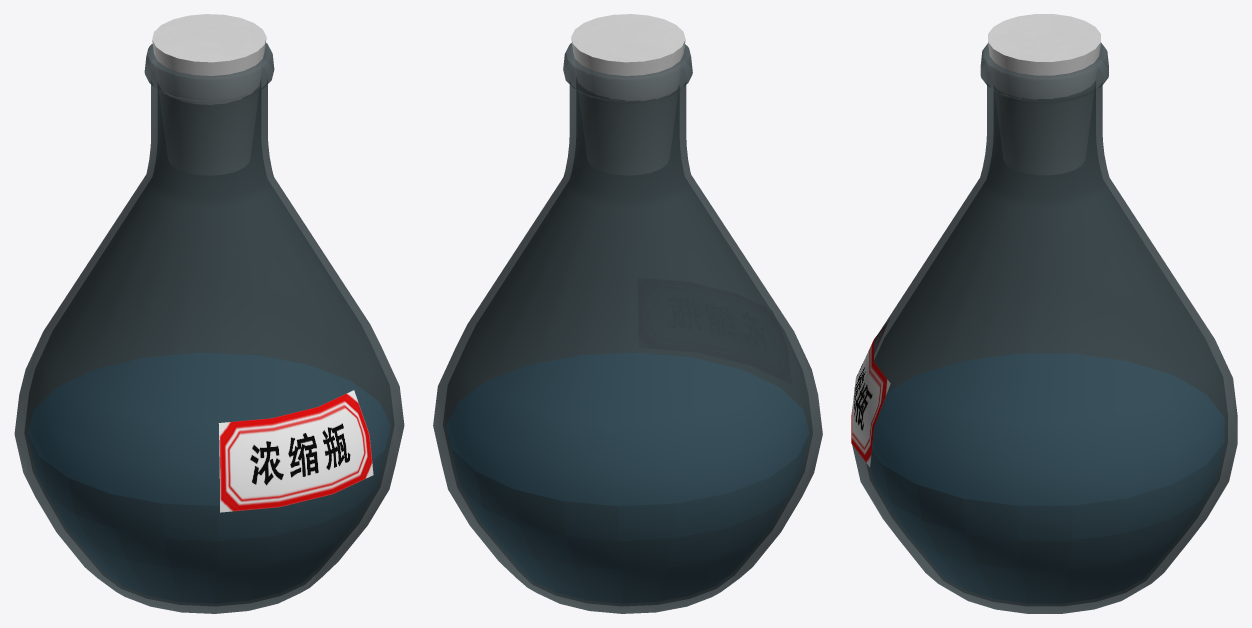
The model's file is SM_浓缩瓶.FBX.
3 views of the same model, side by side, from view 1: azimuth 30°, elevation 25°; view 2: azimuth 150°, elevation 25°; view 3: azimuth 270°, elevation 25° (orthographic).
Parts seen in each view (by area): view 1: SM_浓缩瓶, SM_浓缩瓶液体, SM_浓缩瓶塞; view 2: SM_浓缩瓶, SM_浓缩瓶液体, SM_浓缩瓶塞; view 3: SM_浓缩瓶, SM_浓缩瓶液体, SM_浓缩瓶塞.
Boxes of the visible parts, x1=… form: SM_浓缩瓶: x1=14, y1=43, x2=404, y2=613; SM_浓缩瓶液体: x1=28, y1=353, x2=390, y2=602; SM_浓缩瓶塞: x1=152, y1=14, x2=266, y2=174; SM_浓缩瓶: x1=433, y1=43, x2=822, y2=613; SM_浓缩瓶液体: x1=447, y1=353, x2=808, y2=602; SM_浓缩瓶塞: x1=571, y1=14, x2=685, y2=174; SM_浓缩瓶: x1=851, y1=43, x2=1237, y2=613; SM_浓缩瓶液体: x1=871, y1=354, x2=1223, y2=602; SM_浓缩瓶塞: x1=988, y1=14, x2=1100, y2=174.
Size of the model in its own units: 0.0689 by 0.069 by 0.1046.
